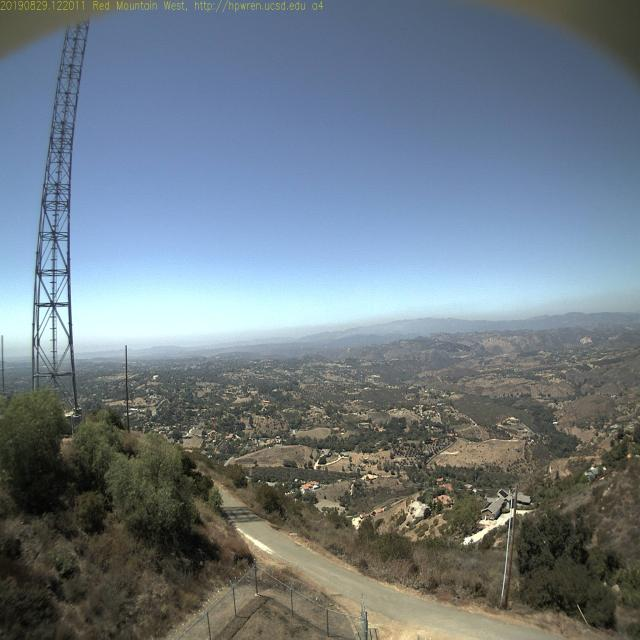smoke: (332, 328, 353, 342)
